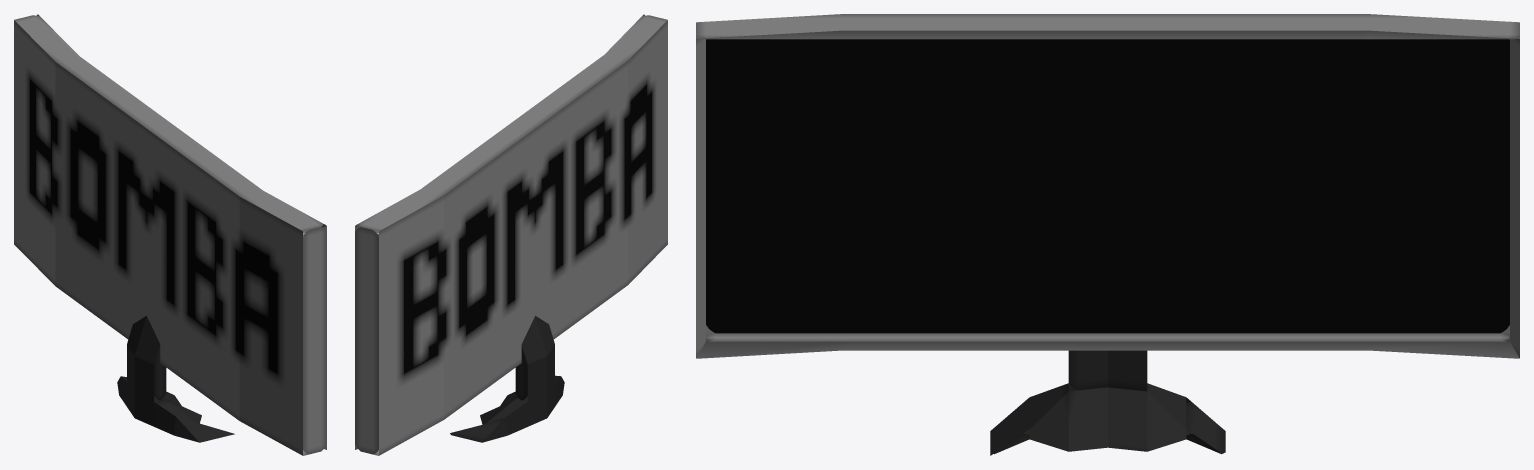
Rendered from Monitor test.fbx.
3 renders of one model, left to right at view 1: azimuth 30°, elevation 25°; view 2: azimuth 150°, elevation 25°; view 3: azimuth 270°, elevation 25°, orthographic. The views are drawn at different scales.
Visible parts, largest first — view 1: display, stand; view 2: display, stand; view 3: display, stand.
Boxes of the visible parts, box(x1,y1,x2,y2) form: display: box(14, 14, 326, 455); stand: box(117, 316, 234, 442); display: box(355, 14, 667, 455); stand: box(450, 316, 564, 442); display: box(696, 14, 1519, 358); stand: box(990, 350, 1225, 455).
Size of the model in its own units: 31.25 by 144 by 262.
1 material, 1 textured.
